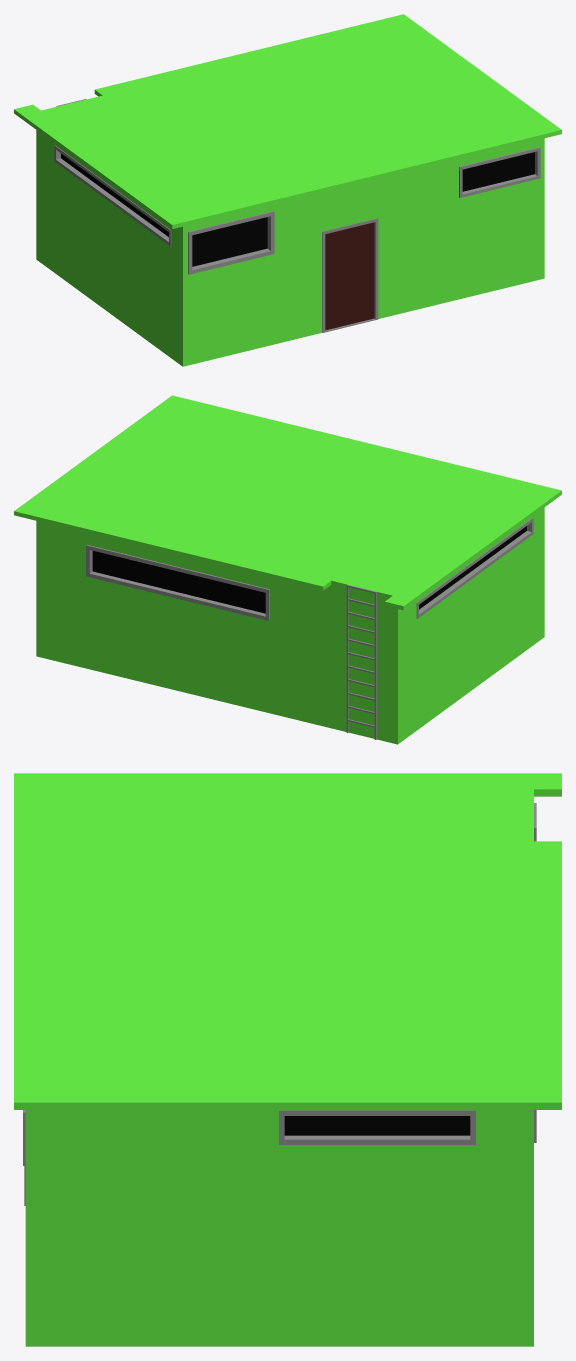
Rendered from Shack 3x2.FBX.
3 renders of one model, top to bottom at view 1: azimuth 30°, elevation 25°; view 2: azimuth 150°, elevation 25°; view 3: azimuth 270°, elevation 25°, orthographic. The views are drawn at different scales.
Visible parts, largest first — view 1: Shack 3x2; view 2: Shack 3x2, Ladder; view 3: Shack 3x2.
Boxes of the visible parts, x1,y1,x2,y2 form: Shack 3x2: (14, 14, 561, 366); Shack 3x2: (14, 395, 561, 744); Ladder: (346, 584, 376, 739); Shack 3x2: (14, 773, 561, 1346).
Bounding box in the file's own units: 276 × 100 × 194.
